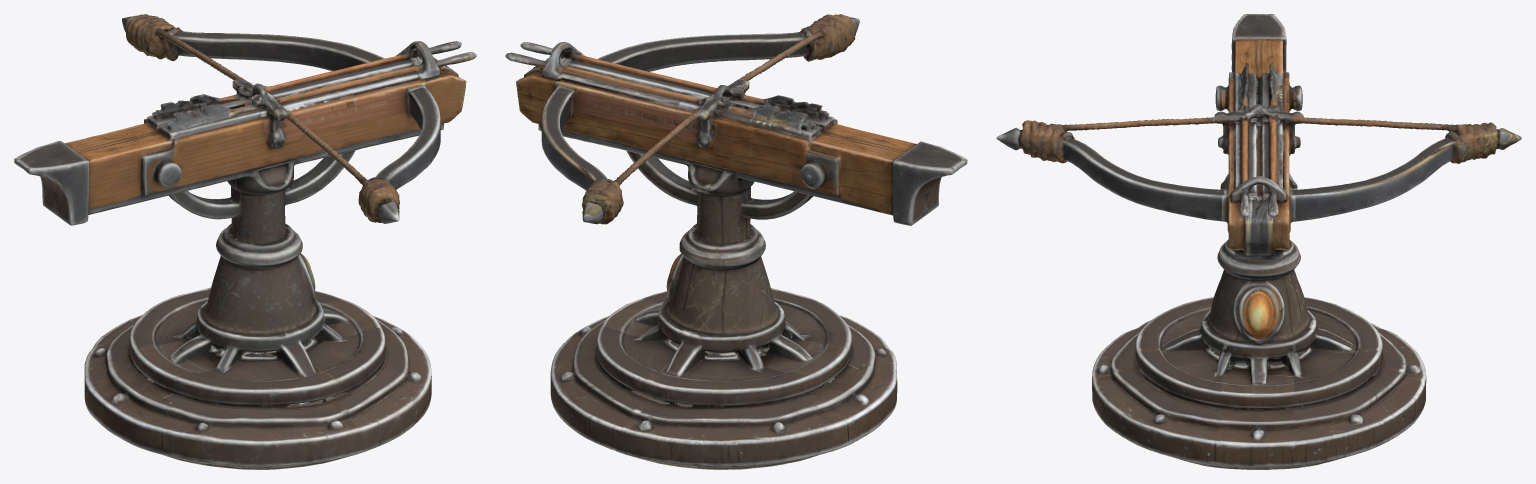
The model's file is xbow_high_quality.glb.
3 views of the same model, side by side, from view 1: azimuth 30°, elevation 25°; view 2: azimuth 150°, elevation 25°; view 3: azimuth 270°, elevation 25° (orthographic). The views are drawn at different scales.
Parts seen in each view (by area): view 1: Base, Head; view 2: Base, Head; view 3: Base, Head.
Part boxes in pixels (box(x1,y1,x2,y2)): Base: box(84, 223, 431, 469); Head: box(14, 14, 476, 242); Base: box(550, 223, 897, 469); Head: box(505, 14, 967, 243); Base: box(1092, 239, 1426, 469); Head: box(996, 14, 1521, 260).
Size of the model in its own units: 1.79 by 1.25 by 1.91.
1 material, 1 textured.
